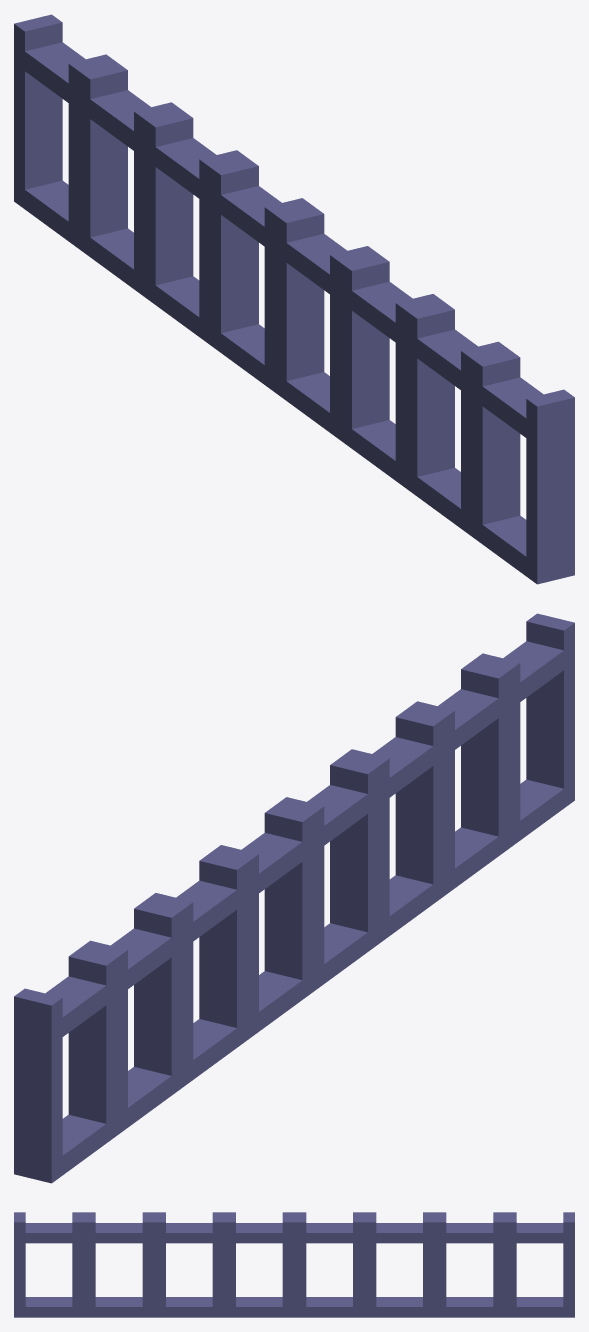
Rendered from Handrail.obj.
3 views of the same model, one above another, from view 1: azimuth 30°, elevation 25°; view 2: azimuth 150°, elevation 25°; view 3: azimuth 270°, elevation 25° (orthographic). The views are drawn at different scales.
Size of the model in its own units: 2 by 9 by 48.
Materials: 1 (1 with a texture image).
